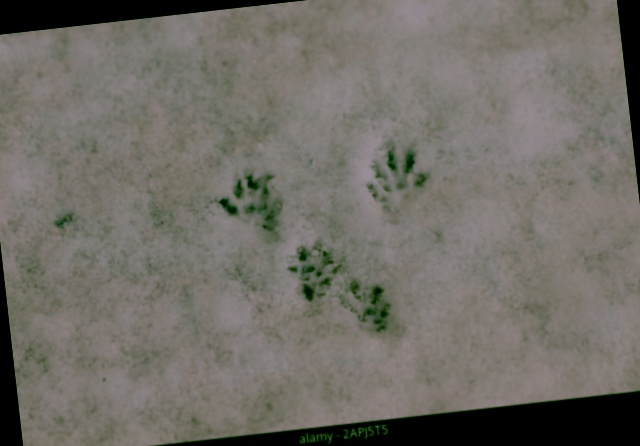ecureuil: (277, 228, 403, 353), (203, 155, 291, 245), (357, 129, 437, 221)
